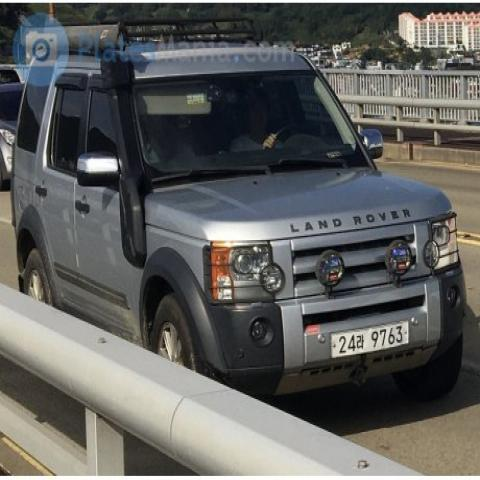LP: (326, 316, 417, 368)
